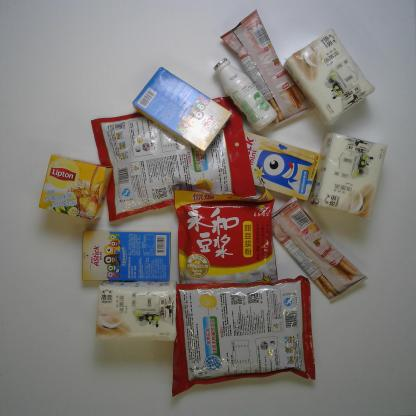Dessert: (220, 8, 315, 130), (265, 197, 368, 302), (132, 64, 233, 156), (242, 128, 322, 202), (80, 227, 174, 284)
Instant Drink: (90, 92, 258, 224), (170, 275, 316, 398), (172, 189, 279, 342), (39, 154, 113, 223)
Milk: (212, 56, 274, 133)
Tissue: (285, 27, 376, 131), (308, 131, 389, 220), (92, 279, 180, 344)
